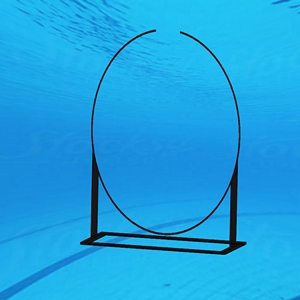circle: (79, 28, 252, 258)
